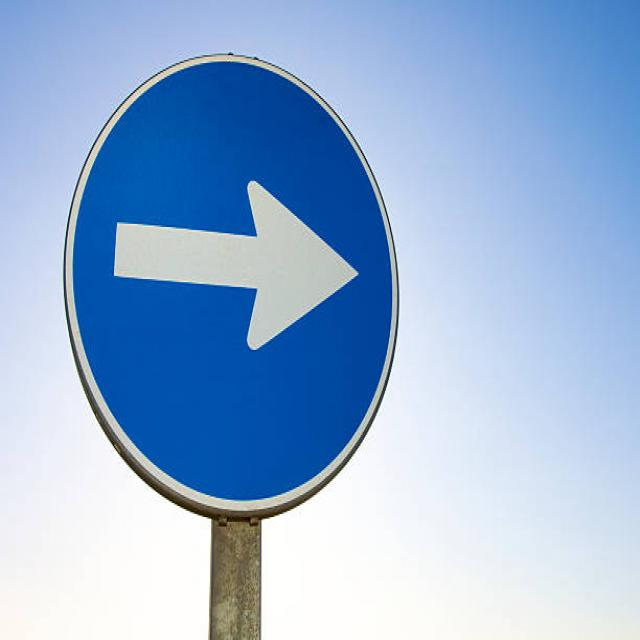compulsory_keep_right: (58, 40, 418, 528)
